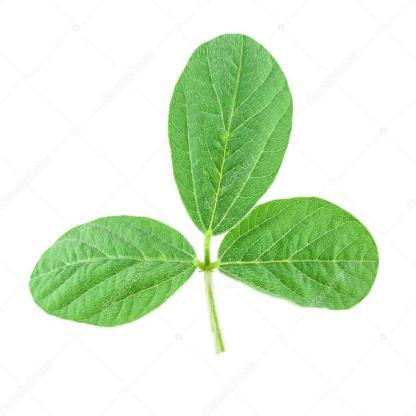Soyabean leaf: (166, 32, 295, 236), (26, 213, 198, 330), (217, 196, 380, 312)
